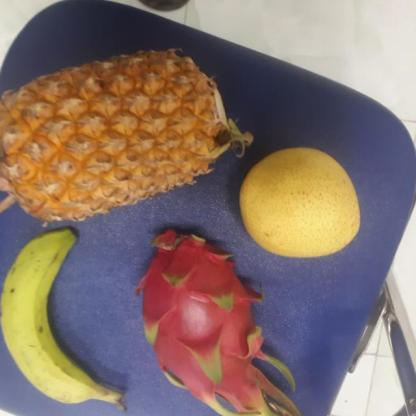banana: (0, 226, 117, 404)
pear: (232, 148, 361, 256)
pineapple: (0, 52, 235, 221)
pitaya: (132, 227, 278, 407)
